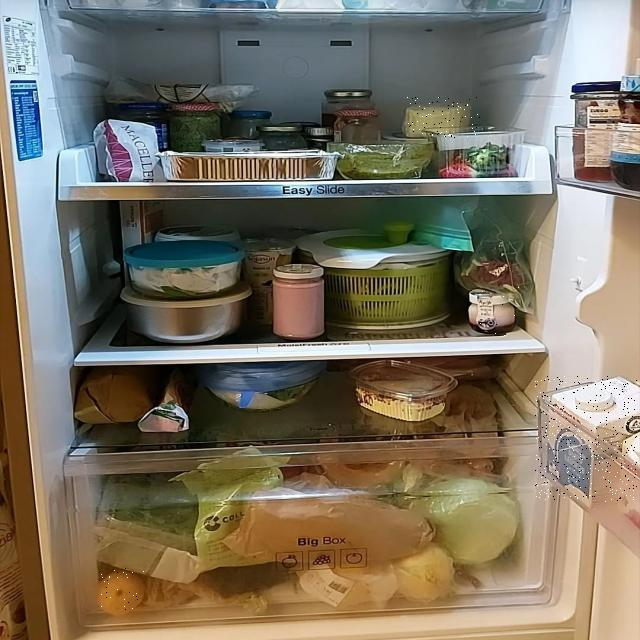cheese: (407, 96, 480, 138)
lemon: (98, 568, 146, 614)
milk: (535, 376, 637, 502)
yoghurt: (467, 285, 520, 337)
